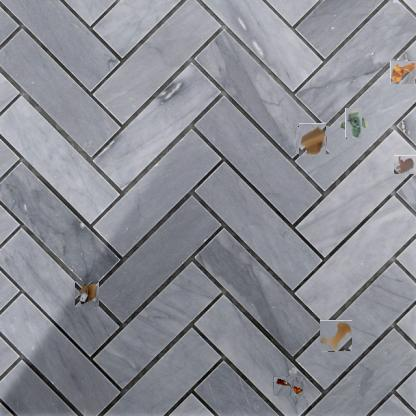dirty: (297, 125, 328, 155), (75, 281, 99, 307), (390, 60, 415, 84), (342, 111, 366, 136), (273, 376, 303, 396)
liquid: (321, 320, 352, 352), (394, 155, 416, 174)
